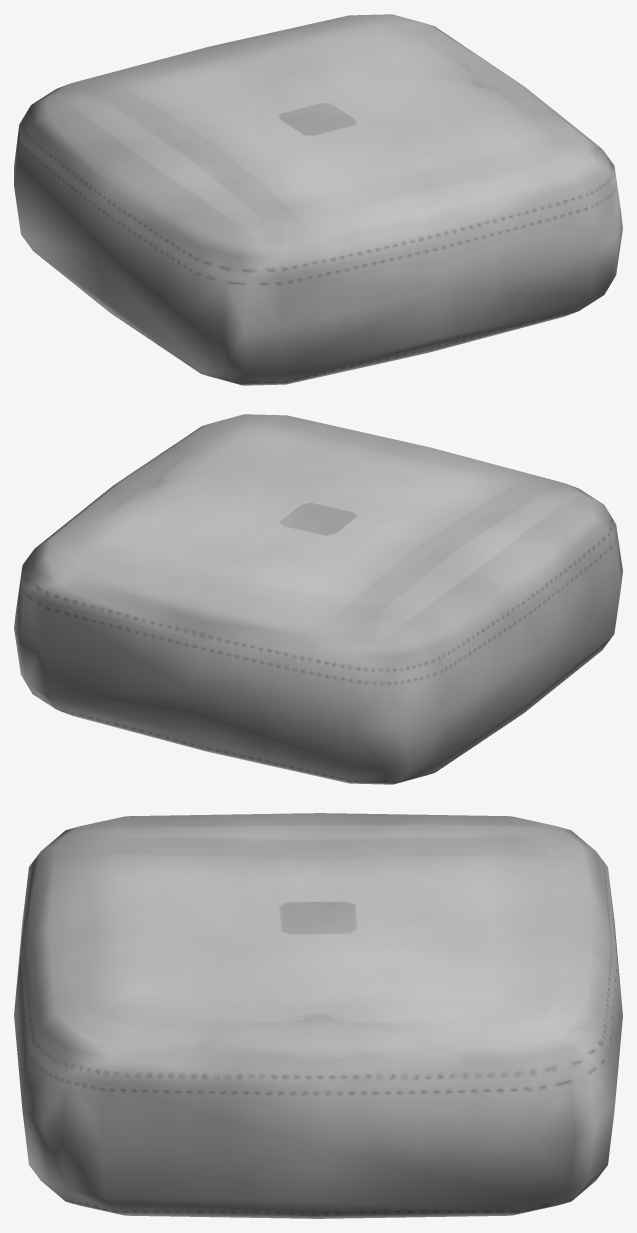
Rendered from LeftLowerLeg_C1.fbx.
3 views of the same model, one above another, from view 1: azimuth 30°, elevation 25°; view 2: azimuth 150°, elevation 25°; view 3: azimuth 270°, elevation 25° (orthographic). The views are drawn at different scales.
Visible parts, largest first — view 1: Civ_Bermuda_LeftLowerLeg_C1; view 2: Civ_Bermuda_LeftLowerLeg_C1; view 3: Civ_Bermuda_LeftLowerLeg_C1.
Boxes of the visible parts, left/top/right/bottom form: Civ_Bermuda_LeftLowerLeg_C1: left=14, top=14, right=622, bottom=385; Civ_Bermuda_LeftLowerLeg_C1: left=14, top=414, right=622, bottom=784; Civ_Bermuda_LeftLowerLeg_C1: left=14, top=813, right=622, bottom=1218.
Size of the model in its own units: 1.31 by 0.4616 by 1.29.
